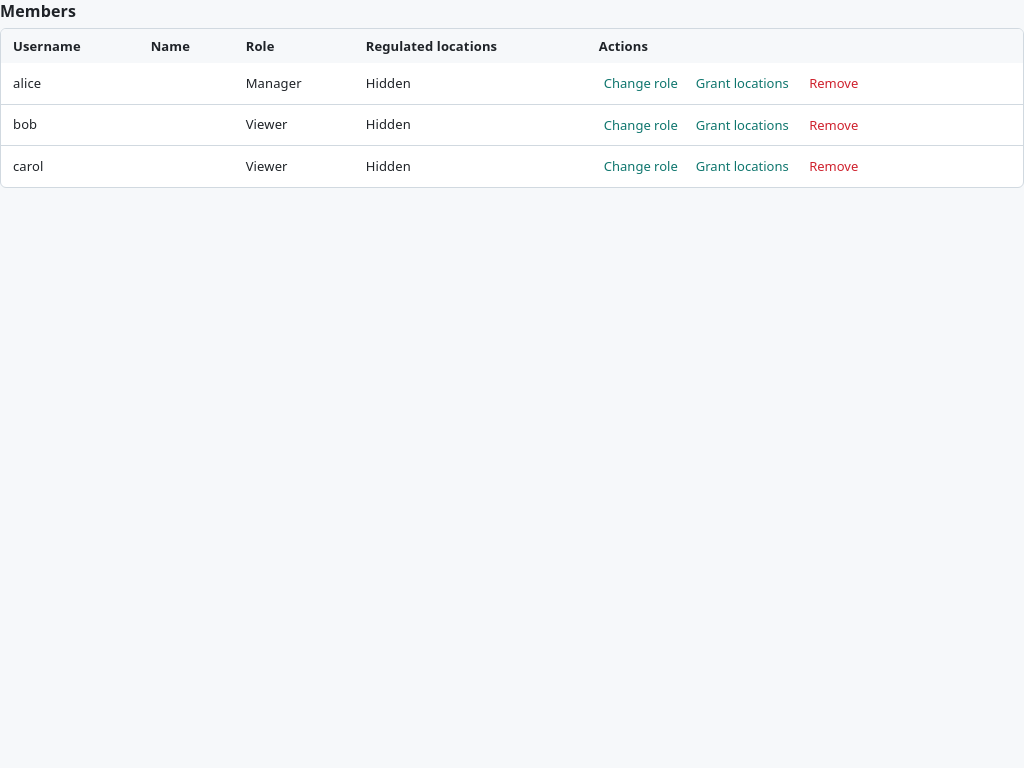
Scenario: focus after a dialog › goes to the same button in the next row after a removal
The image size is (1024, 768).
Check: the table named "Members" is shown, box [1,29,1023,187]
Click the button with aria-label "Remove bob" at x=834, y=125, box [802,110,866,140]
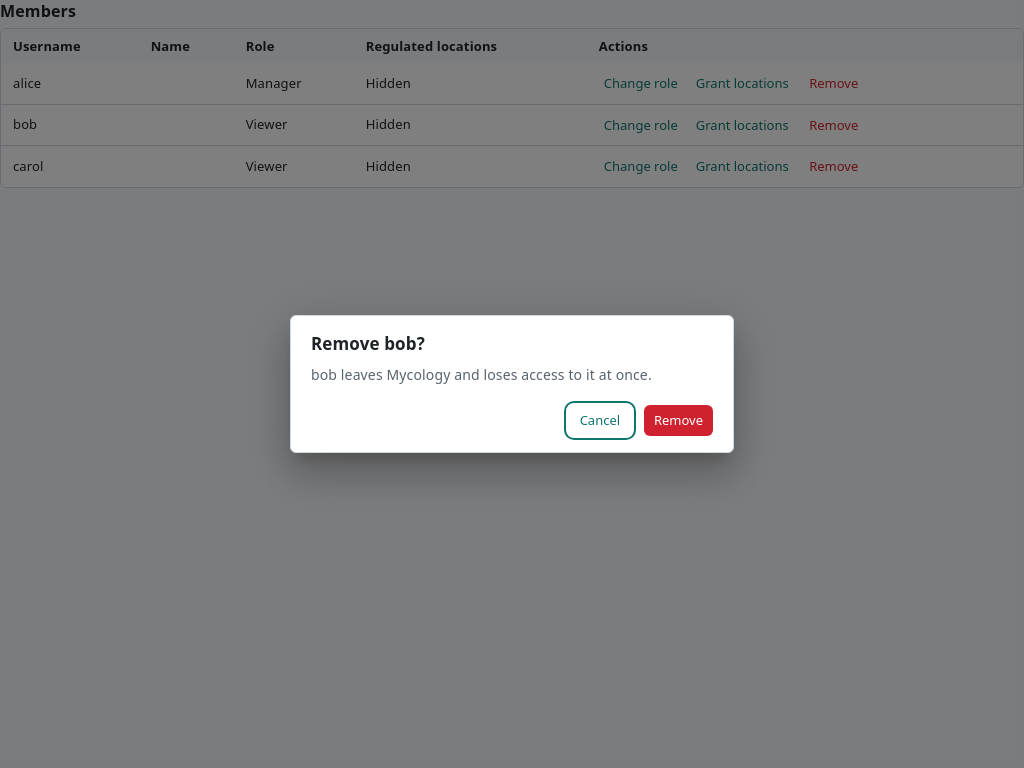
Click the button "Remove" at x=678, y=420, box [644,405,713,436]
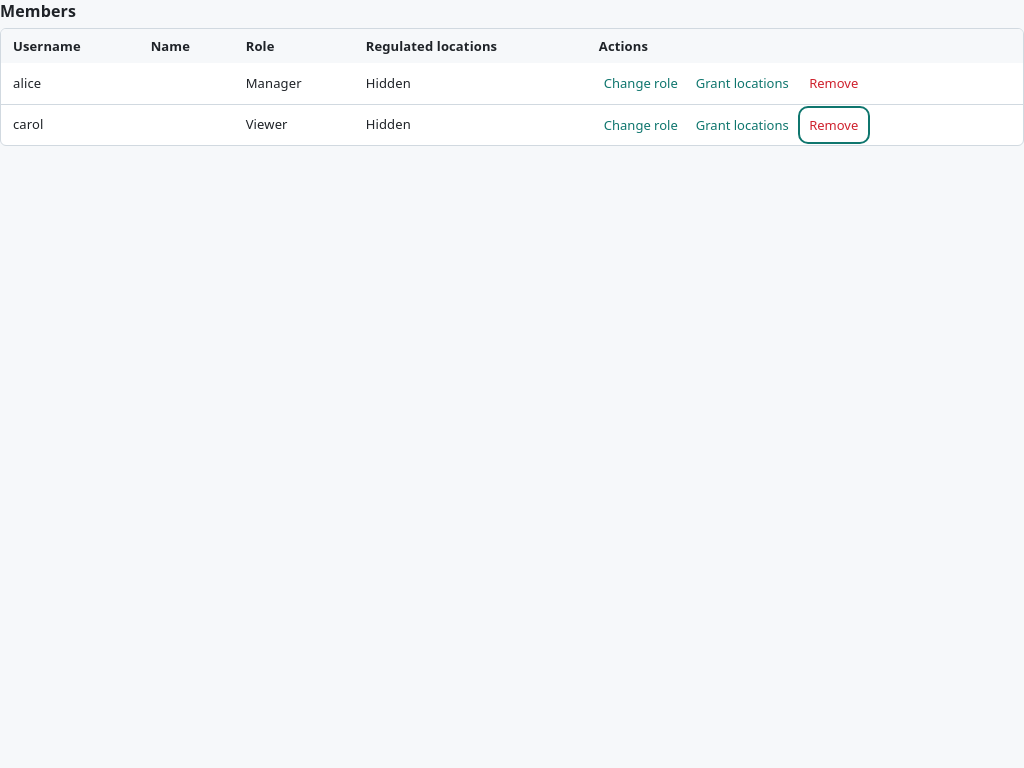
Check: the dialog is gone
Check: the cell "bob" is gone
